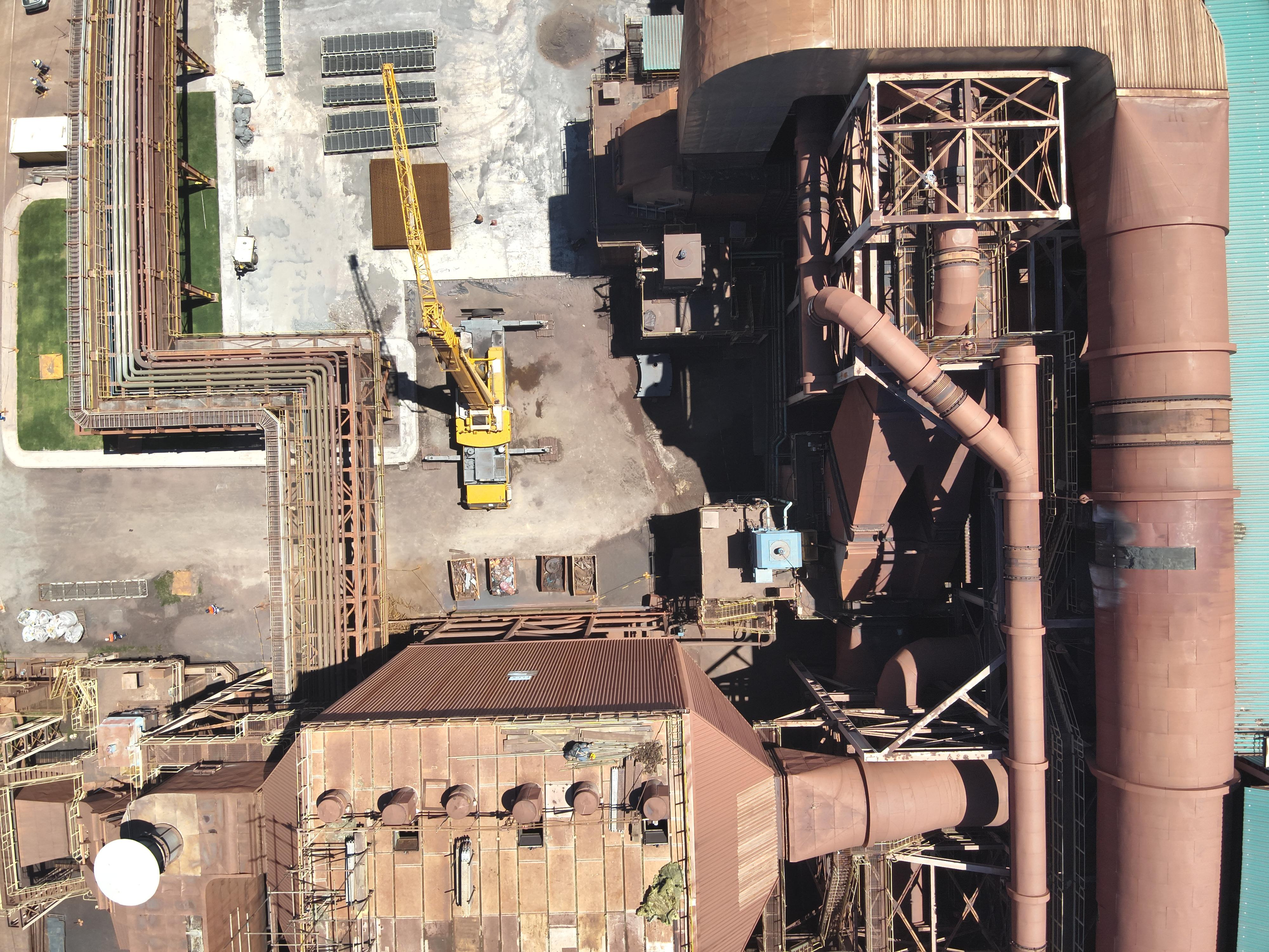Failures: (1111, 544, 1197, 572), (185, 914, 205, 952)
